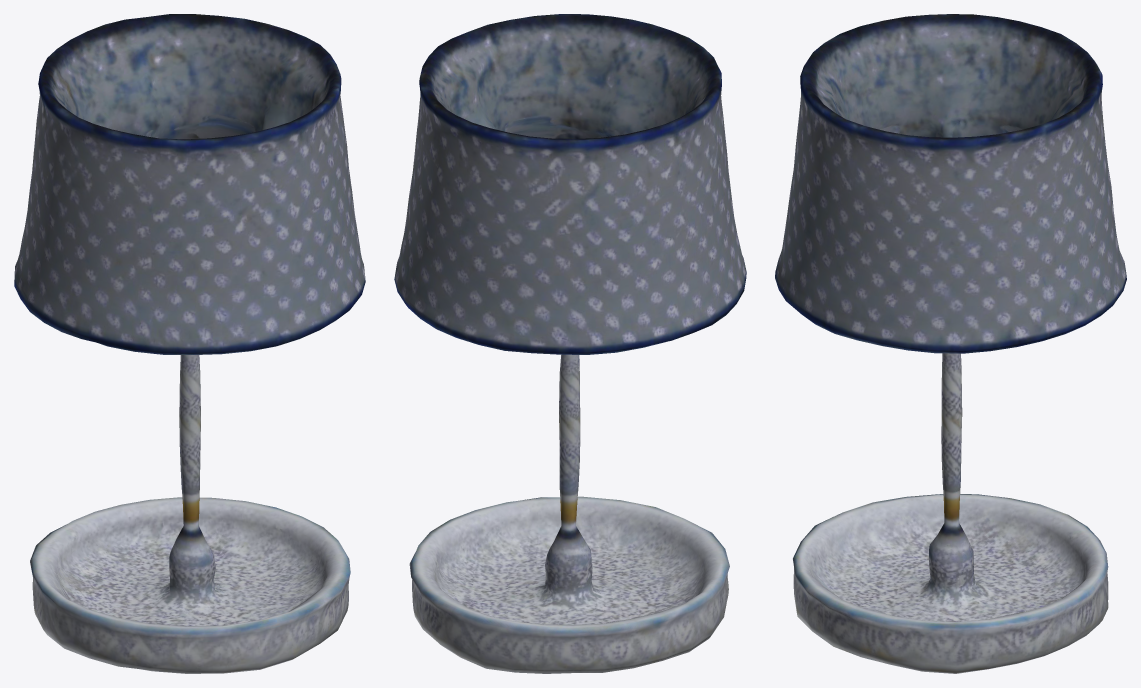
The model's file is 439bf0193b94_bedroom_lamp_min.fbx.
The picture shows the model from 3 angles, left to right: view 1: azimuth 30°, elevation 25°; view 2: azimuth 150°, elevation 25°; view 3: azimuth 270°, elevation 25°; orthographic projection.
Parts seen in each view (by area): view 1: mesh; view 2: mesh; view 3: mesh.
Part boxes in pixels (x1,y1,x2,y2): mesh: (14, 14, 365, 673); mesh: (394, 14, 746, 673); mesh: (775, 14, 1126, 673).
Size of the model in its own units: 58.53 by 99.86 by 58.77.
